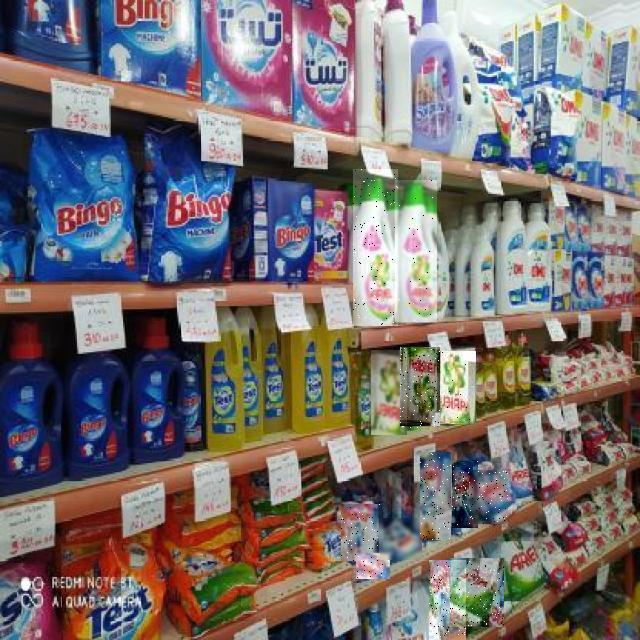Detergent: (353, 169, 398, 326), (395, 181, 437, 323), (450, 558, 504, 627), (400, 348, 440, 430), (371, 350, 407, 435), (429, 560, 466, 640), (420, 452, 451, 540), (441, 351, 477, 424), (342, 504, 382, 561), (470, 470, 508, 524), (453, 460, 479, 528), (380, 518, 422, 560), (356, 553, 390, 579)
